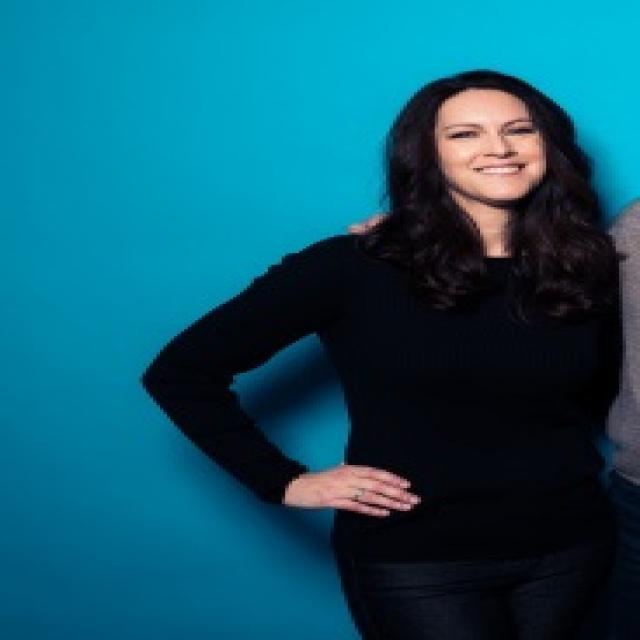mobile_phonerotation: (139, 67, 637, 638)
